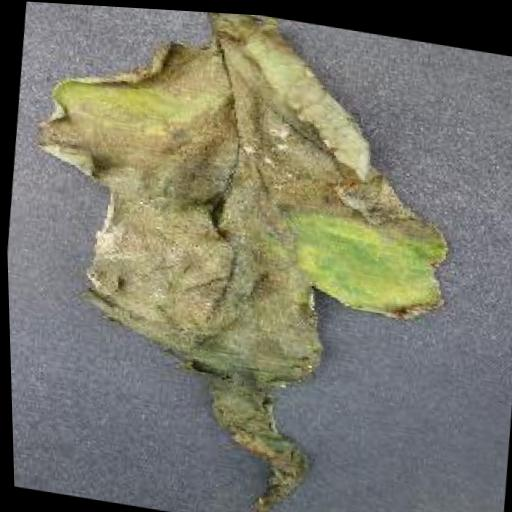Late Blight: (0, 0, 479, 512)
